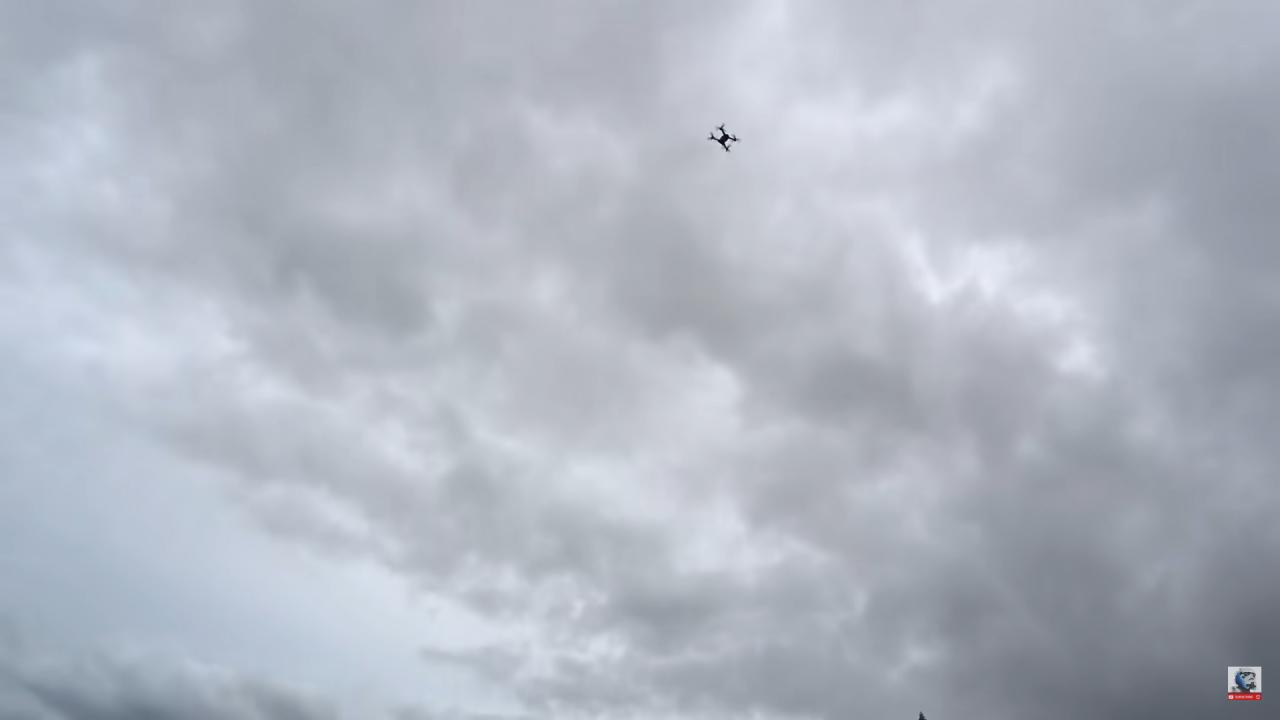Drone: (702, 118, 744, 158)
